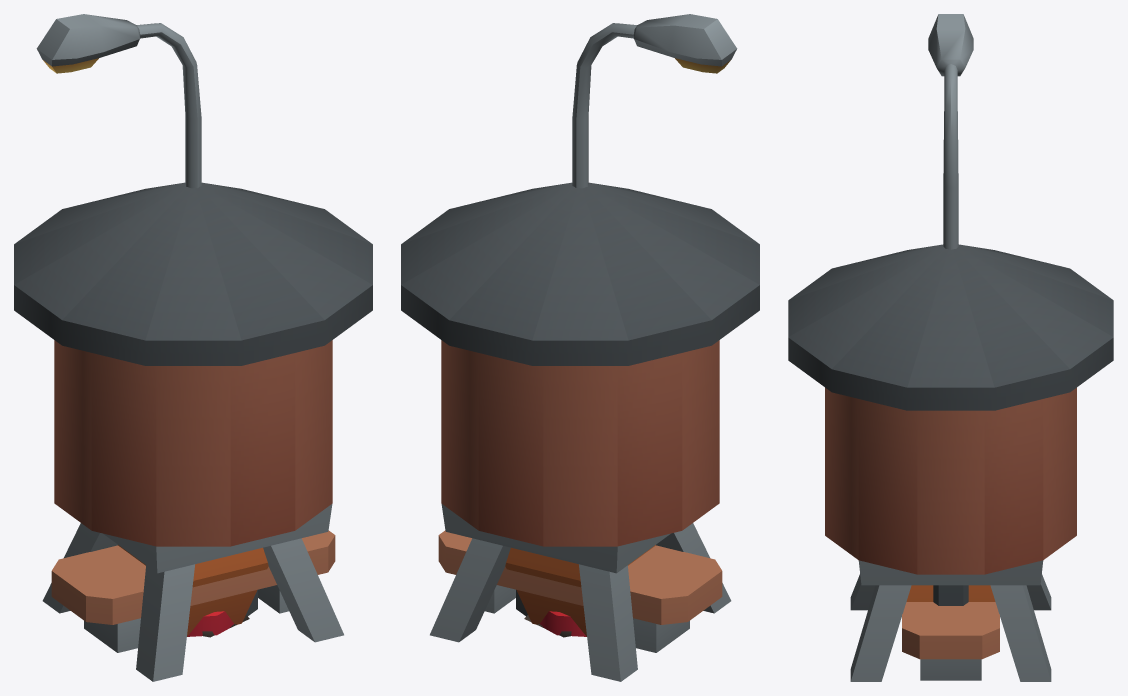
Rendered from kaykit-city.glb.
3 views of the same model, side by side, from view 1: azimuth 30°, elevation 25°; view 2: azimuth 150°, elevation 25°; view 3: azimuth 270°, elevation 25° (orthographic). The views are drawn at different scales.
Visible parts, largest first — view 1: watertower, bench, streetlight, bush, firehydrant; view 2: watertower, bench, streetlight, bush, firehydrant; view 3: watertower, bench, streetlight, bush.
Boxes of the visible parts, x1,y1,x2,y2 form: watertower: (14,182,372,681); bench: (51,530,335,652); streetlight: (36,14,201,188); bush: (118,545,268,636); firehydrant: (187,611,233,636); watertower: (401,182,759,681); bench: (438,530,722,652); streetlight: (572,14,737,188); bush: (505,545,655,636); firehydrant: (540,611,586,636); watertower: (788,244,1113,681); bench: (902,602,999,680); streetlight: (928,14,973,249); bush: (906,585,995,601).
Size of the model in its own units: 0.4989 by 0.9599 by 0.4989.
1 material, 1 textured.
